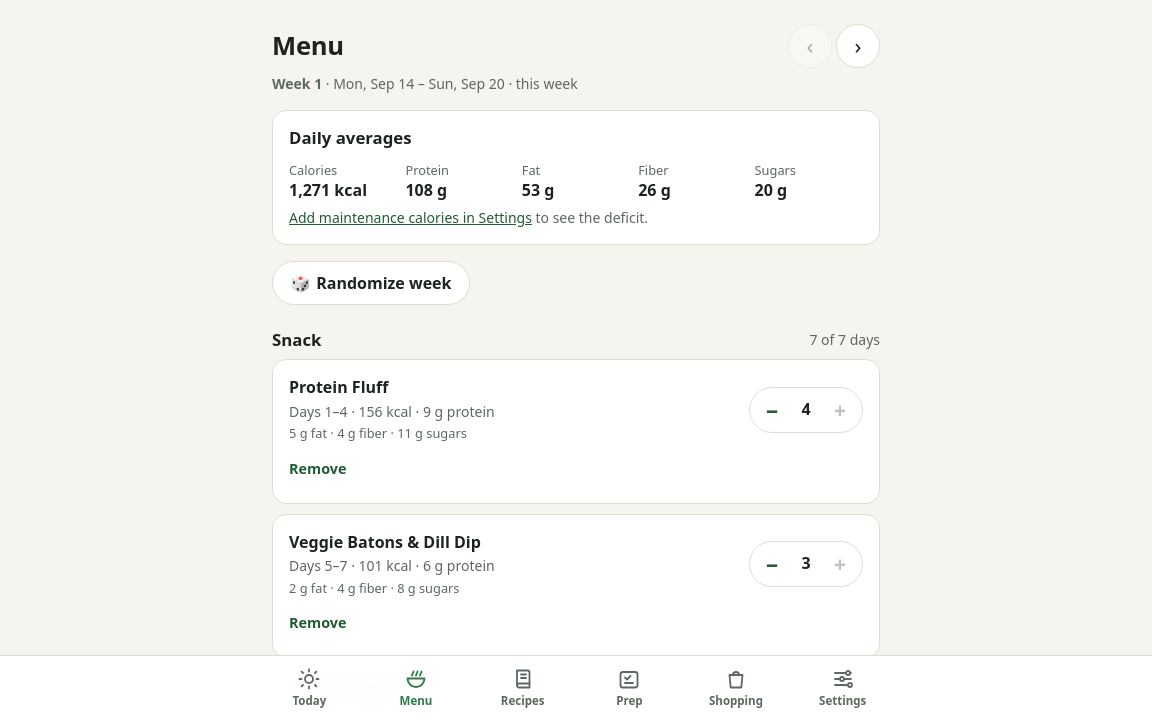
Test: Menu › moves between weeks, and later weeks follow an edited week
Click the button with aria-label "Remove Veggie Batons & Dill Dip" at (318, 623), box [289,605,346,641]
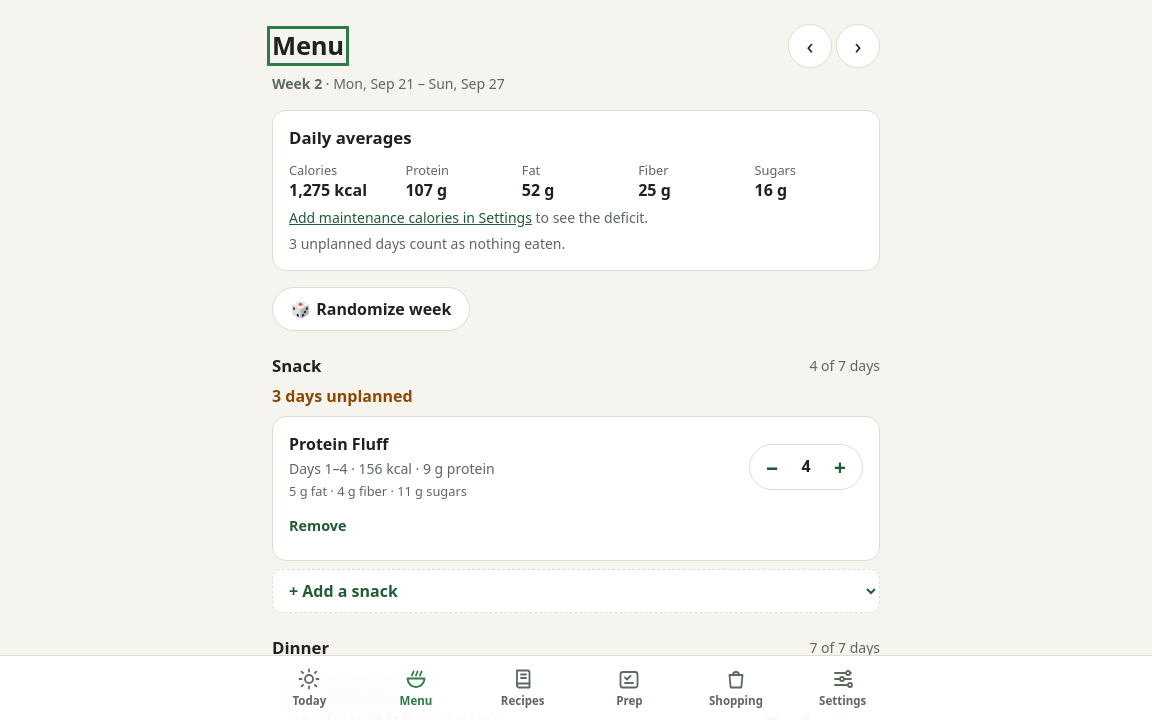
Expected: the text "Week 2" is shown, [272,74,322,93]
Expected: the element "Snack" shows "3 days unplanned", [272,385,413,407]
